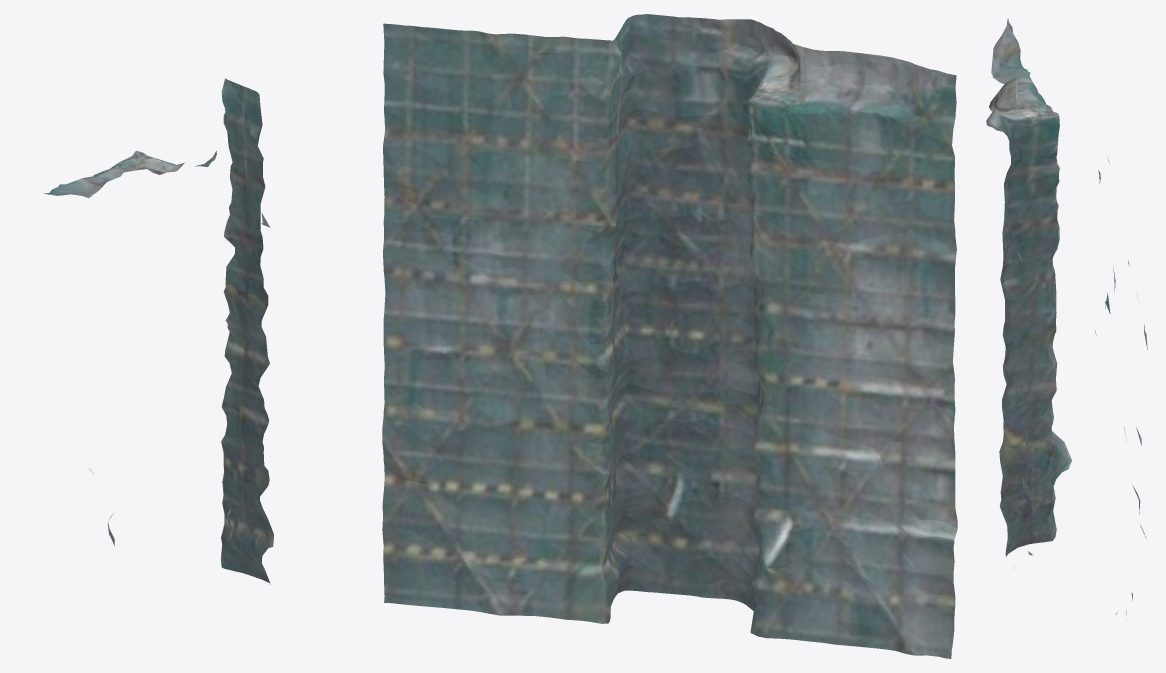
Rendered from Tile__003__001_L22_00034100.glb.
3 views of the same model, side by side, from view 1: azimuth 30°, elevation 25°; view 2: azimuth 150°, elevation 25°; view 3: azimuth 270°, elevation 25° (orthographic). The views are drawn at different scales.
Parts seen in each view (by area): view 1: root; view 2: root; view 3: root.
Part boxes in pixels (x1,y1,x2,y2): root: [43, 78, 273, 584]; root: [382, 14, 957, 658]; root: [986, 18, 1147, 619].
Bounding box in the file's own units: 10.14 × 11.63 × 3.81.
Materials: 1 (1 with a texture image).
